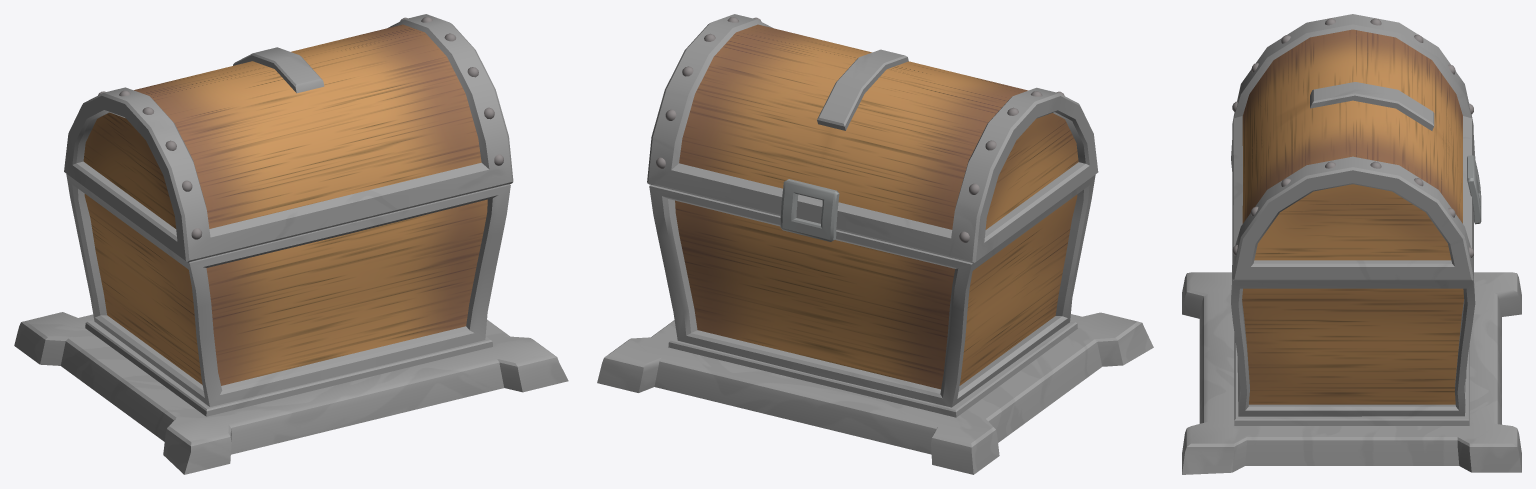
The model's file is TChest_lvl1.fbx.
The picture shows the model from 3 angles, left to right: view 1: azimuth 30°, elevation 25°; view 2: azimuth 150°, elevation 25°; view 3: azimuth 270°, elevation 25°; orthographic projection. The views are drawn at different scales.
Parts seen in each view (by area): view 1: Cube, Cylinder, Icosphere.002; view 2: Cube, Cylinder, Cube.001, Icosphere.002; view 3: Cube, Cylinder, Icosphere.002, Cube.001.
Part boxes in pixels (x1=…): Cube: x1=14, y1=174, x2=568, y2=474; Cylinder: x1=64, y1=14, x2=513, y2=262; Icosphere.002: x1=98, y1=17, x2=503, y2=239; Cube: x1=597, y1=174, x2=1153, y2=474; Cylinder: x1=647, y1=14, x2=1098, y2=263; Cube.001: x1=780, y1=179, x2=839, y2=241; Icosphere.002: x1=656, y1=17, x2=1064, y2=242; Cube: x1=1182, y1=135, x2=1521, y2=474; Cylinder: x1=1232, y1=14, x2=1473, y2=280; Icosphere.002: x1=1232, y1=18, x2=1473, y2=257; Cube.001: x1=1467, y1=155, x2=1481, y2=224.
Size of the model in its own units: 193 by 146 by 152.
